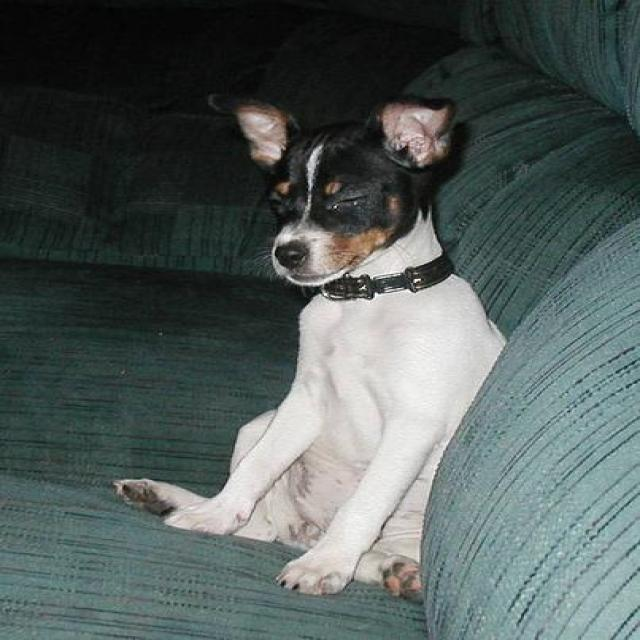toy_terrier: (108, 94, 508, 604)
